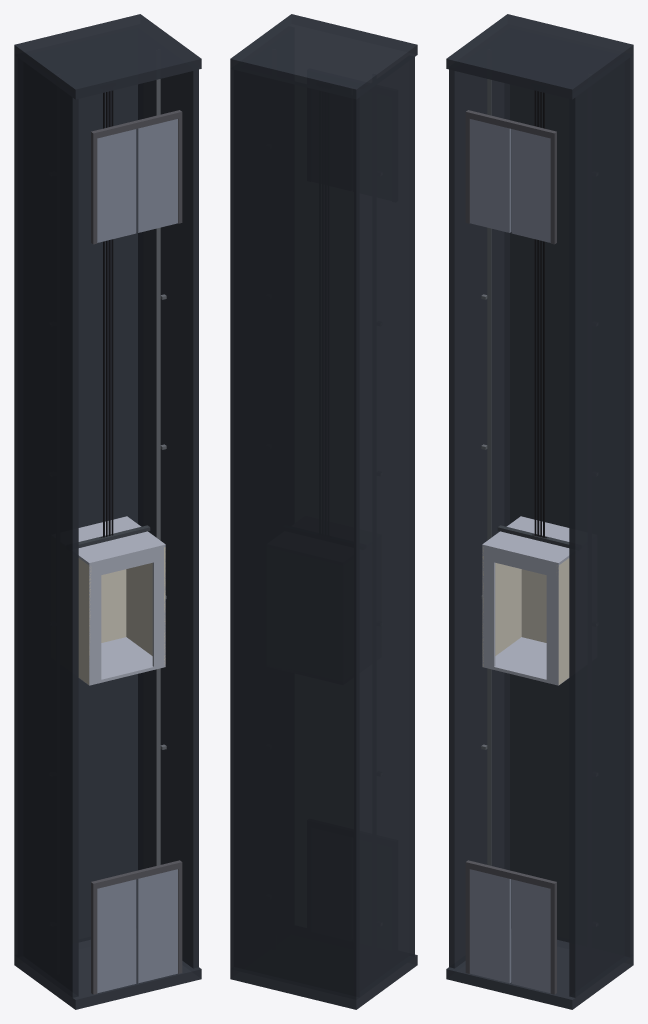
File: shaft.obj
3 views of the same model, side by side, from view 1: azimuth 30°, elevation 25°; view 2: azimuth 150°, elevation 25°; view 3: azimuth 330°, elevation 25° (orthographic).
Parts seen in each view (by area): view 1: Shaft_Structure, Car, Door_L1, Door_L6, Cable_Main, GuideRail_Right; view 2: Shaft_Structure; view 3: Shaft_Structure, Car, Door_L1, Door_L6, Cable_Main, GuideRail_Left.
Boxes of the visible parts, x1,y1,x2,y2 form: Shaft_Structure: (14,14,201,1009); Car: (78,516,165,685); Door_L1: (91,860,182,994); Door_L6: (91,110,182,244); Cable_Main: (100,90,113,537); GuideRail_Right: (156,79,166,865); Shaft_Structure: (230,14,417,1009); Shaft_Structure: (446,14,633,1009); Car: (482,516,569,685); Door_L1: (465,860,556,994); Door_L6: (465,110,556,244); Cable_Main: (532,90,547,538); GuideRail_Left: (481,79,491,865).
Size of the model in its own units: 2.64 by 18.4 by 2.22.
